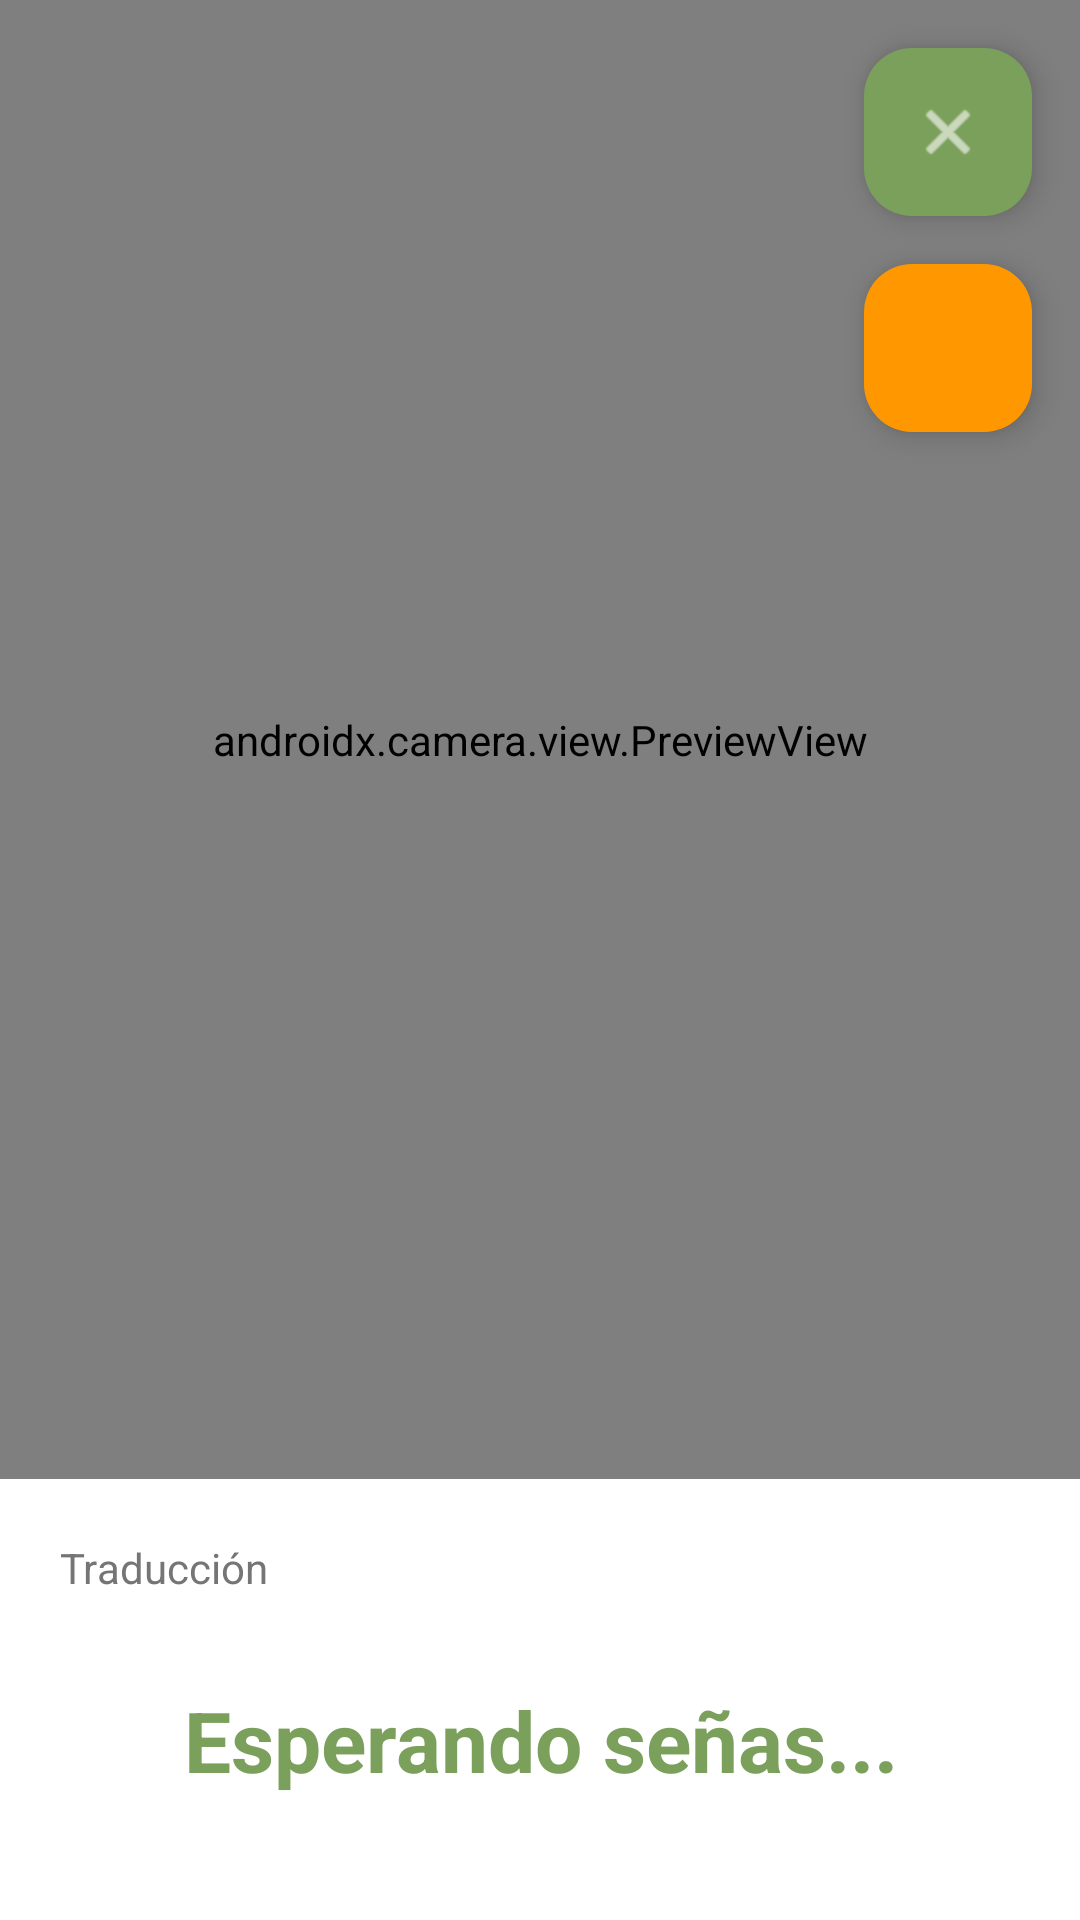

Icons on this 1080 × 1920 Android screen, each with the point to tap as point (x, y):
close clear cancel: point (948, 132)
